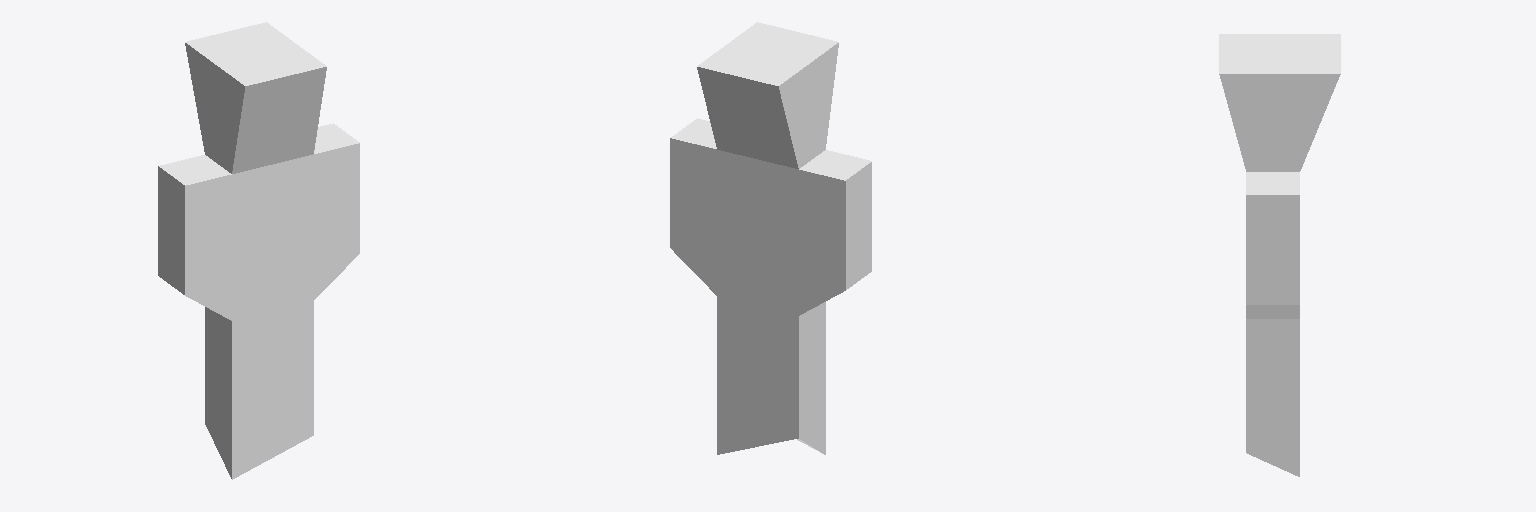
Rendered from prototype_security_guard.obj.
The picture shows the model from 3 angles: view 1: azimuth 30°, elevation 25°; view 2: azimuth 150°, elevation 25°; view 3: azimuth 270°, elevation 25°; orthographic projection.
Parts seen in each view (by area): view 1: prototype_security_guard; view 2: prototype_security_guard; view 3: prototype_security_guard.
Boxes of the visible parts, x1=… form: prototype_security_guard: x1=158, y1=22, x2=359, y2=479; prototype_security_guard: x1=670, y1=22, x2=871, y2=454; prototype_security_guard: x1=1219, y1=34, x2=1340, y2=476.
Bounding box in the file's own units: 3.75 × 8.25 × 2.25.